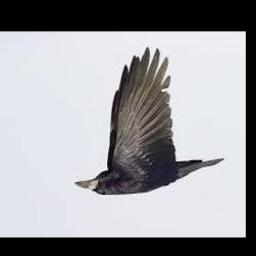Crow: (73, 50, 222, 196)
